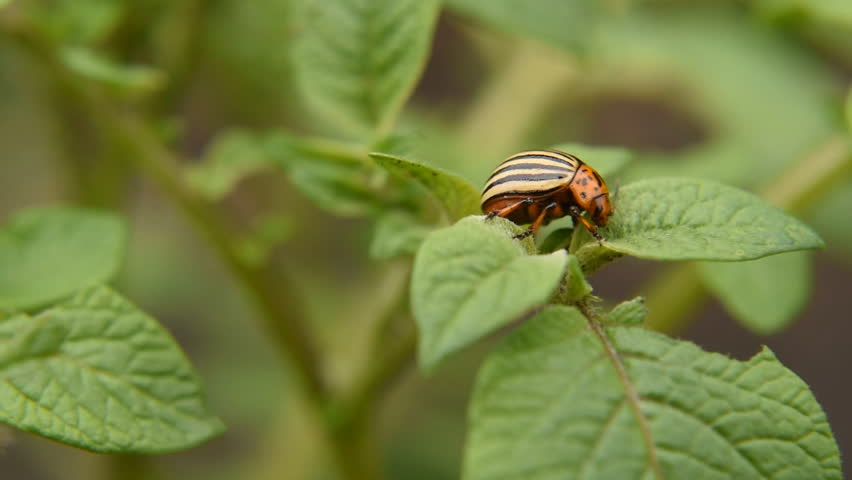hrosc: (469, 125, 618, 257)
